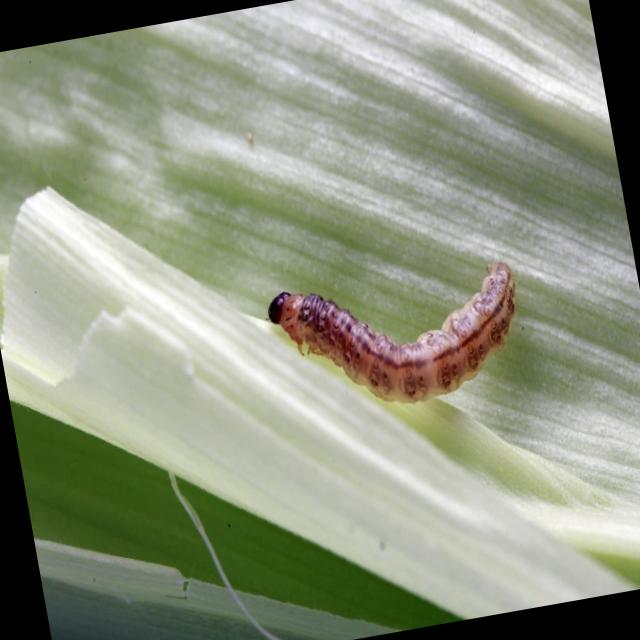pest: (266, 259, 537, 420)
